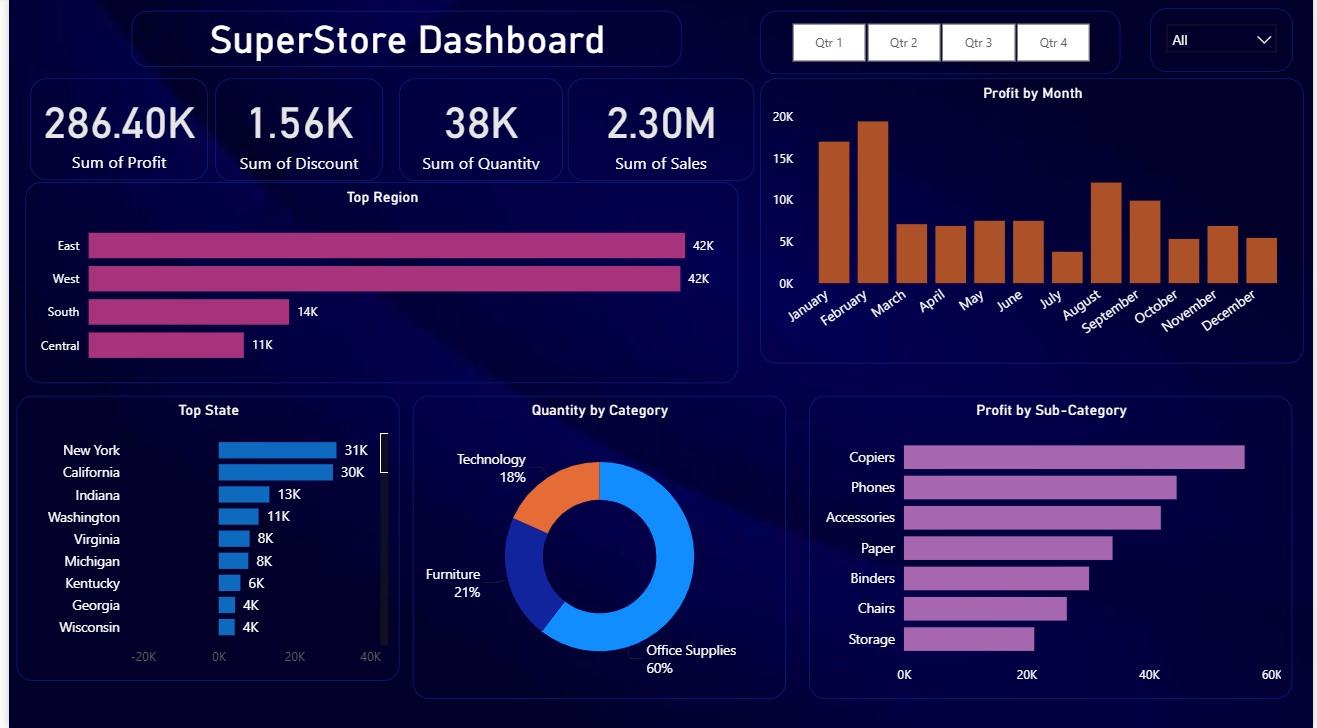

The page's visual inventory and layout, read from the dashboard file:
{"tool":"powerbi","page":{"name":"Page 1","canvas":[1280,720],"ordinal":0},"visuals":[{"type":"columnChart","title":"Profit by Month","fields":{"Category":["FactSales.Order Date.Variation.Date Hierarchy.Month"],"Y":["Sum(DimProducts.Profit)"]},"box":[736.9,79.6,533.8,279.9],"z":0},{"type":"barChart","title":"Profit by Sub-Category","fields":{"Category":["DimProducts.Sub-Category"],"Y":["Sum(DimProducts.Profit)"]},"box":[784.9,391.1,474.8,297.8],"z":1000},{"type":"donutChart","title":" Quantity by Category","fields":{"Category":["DimProducts.Category"],"Y":["Sum(DimProducts.Quantity)"]},"box":[396.6,391.1,366.4,297.8],"z":2000},{"type":"barChart","title":"Top State","fields":{"Category":["FactSales.State"],"Y":["Sum(DimProducts.Profit)"]},"box":[6.9,391.1,376,279.9],"z":3000},{"type":"card","fields":{"Values":["Sum(DimProducts.Profit)"]},"box":[20.6,79.6,174.3,100.2],"z":4000},{"type":"card","fields":{"Values":["Sum(DimProducts.Discount)"]},"box":[202.5,79.8,164.4,100.6],"z":5000},{"type":"card","fields":{"Values":["Sum(DimProducts.Quantity)"]},"box":[382.8,79.8,160.7,100.6],"z":6000},{"type":"card","fields":{"Values":["Sum(DimProducts.Sales)"]},"box":[548.5,79.8,182.8,100.6],"z":7000},{"type":"clusteredBarChart","title":"Top Region","fields":{"Category":["FactSales.Region"],"Y":["Sum(DimProducts.Profit)"]},"box":[16.5,181.1,699.8,197.6],"z":8000},{"type":"textbox","title":"SuperStore Dashboard","box":[120.2,13.5,539.9,55.2],"z":9000},{"type":"slicer","fields":{"Values":["FactSales.Order Date.Variation.Date Hierarchy.Quarter"]},"box":[737.4,13.5,353.4,62.6],"z":10000},{"type":"slicer","fields":{"Values":["FactSales.State"]},"box":[1120.3,11,139.9,62.6],"z":11000}]}

Visuals, with their boxes in screenshot pixels (x1, y1, x2, y2), scaled from the page's 1280x720 canvas onto the 1317x728 screenshot:
"Profit by Month" columnChart: Rect(758, 80, 1307, 363)
"Profit by Sub-Category" barChart: Rect(808, 395, 1296, 697)
" Quantity by Category" donutChart: Rect(408, 395, 785, 697)
"Top State" barChart: Rect(7, 395, 394, 678)
card - Sum(DimProducts.Profit): Rect(21, 80, 201, 182)
card - Sum(DimProducts.Discount): Rect(208, 81, 378, 182)
card - Sum(DimProducts.Quantity): Rect(394, 81, 559, 182)
card - Sum(DimProducts.Sales): Rect(564, 81, 752, 182)
"Top Region" clusteredBarChart: Rect(17, 183, 737, 383)
"SuperStore Dashboard" textbox: Rect(124, 14, 679, 69)
slicer - FactSales.Order Date.Variation.Date Hierarchy.Quarter: Rect(759, 14, 1122, 77)
slicer - FactSales.State: Rect(1153, 11, 1297, 74)
